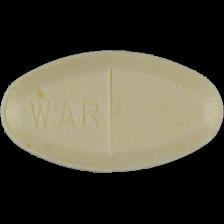54868-4950: (0, 0, 224, 224)
